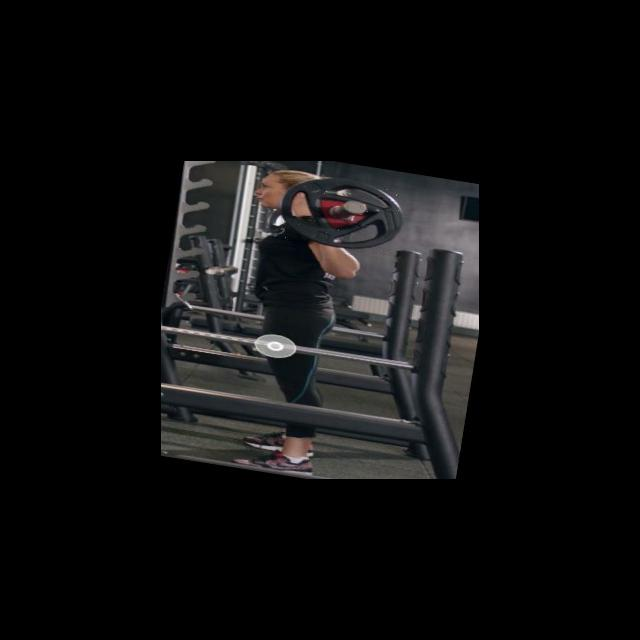barbell: (271, 166, 416, 259)
